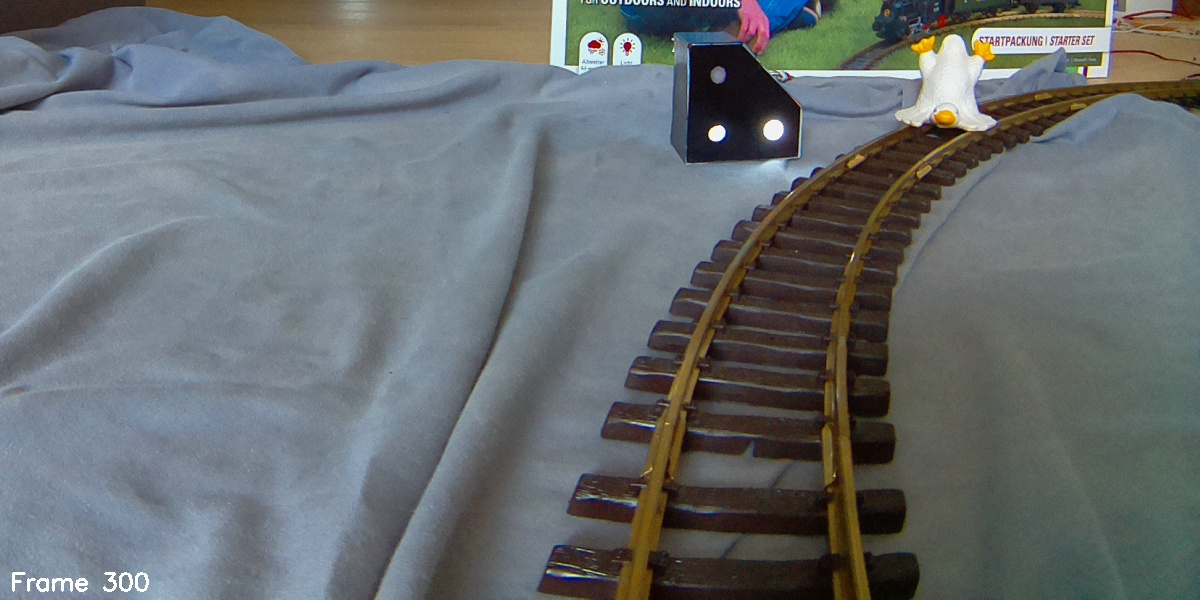Ente: (892, 31, 1000, 137)
Halt: (673, 34, 803, 161)
